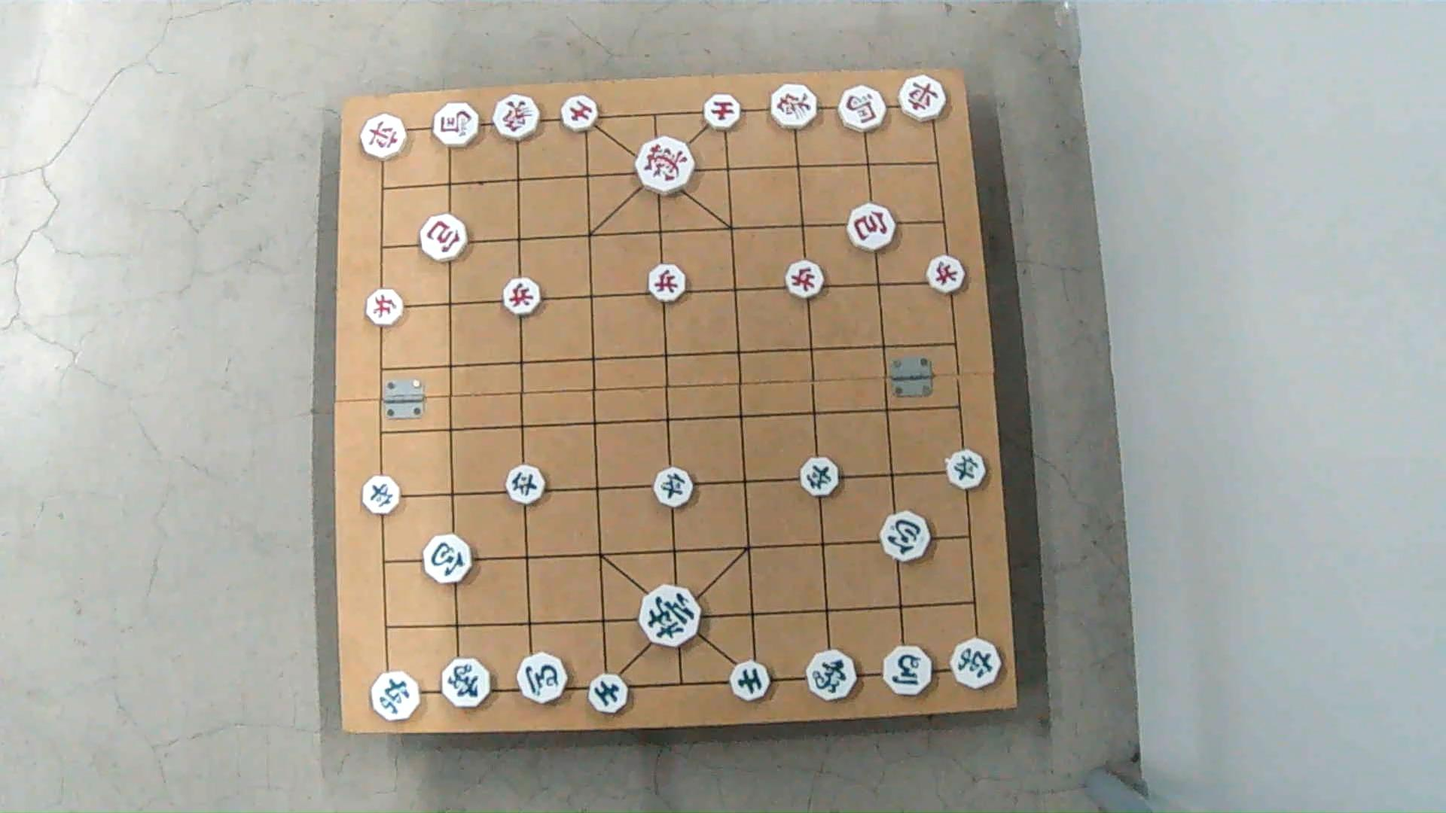cha_green: (950, 641, 1003, 689), (372, 674, 422, 721)
cha_red: (362, 114, 410, 157), (900, 77, 947, 117)
jol_green: (651, 469, 693, 507), (504, 467, 544, 506), (800, 457, 840, 495), (947, 451, 989, 487), (364, 477, 403, 514)
jol_red: (645, 265, 685, 302), (927, 257, 969, 291), (499, 280, 538, 316), (787, 262, 827, 297), (368, 291, 407, 325)
ma_green: (517, 650, 567, 704), (882, 647, 933, 696)
ma_red: (837, 88, 886, 132), (432, 104, 480, 145)
po_green: (880, 513, 931, 561), (421, 537, 469, 585)
po_red: (849, 204, 899, 250), (418, 215, 465, 259)
sa_green: (730, 660, 771, 703), (589, 672, 628, 716)
sa_red: (704, 95, 743, 129), (560, 98, 599, 132)
sang_green: (806, 650, 859, 701), (443, 656, 492, 711)
sang_red: (771, 83, 818, 130), (491, 95, 540, 139)
wang_green: (639, 587, 703, 647)
wang_red: (633, 138, 693, 192)
